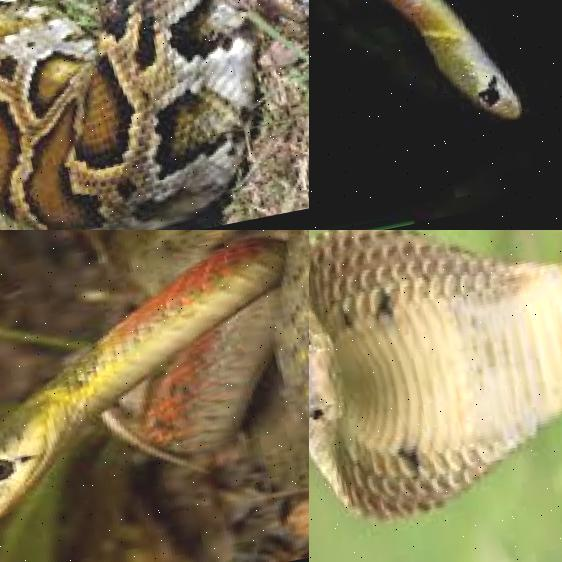2: (0, 230, 309, 557), (309, 0, 536, 167)
5: (309, 230, 562, 562)
snake: (0, 0, 309, 230)
